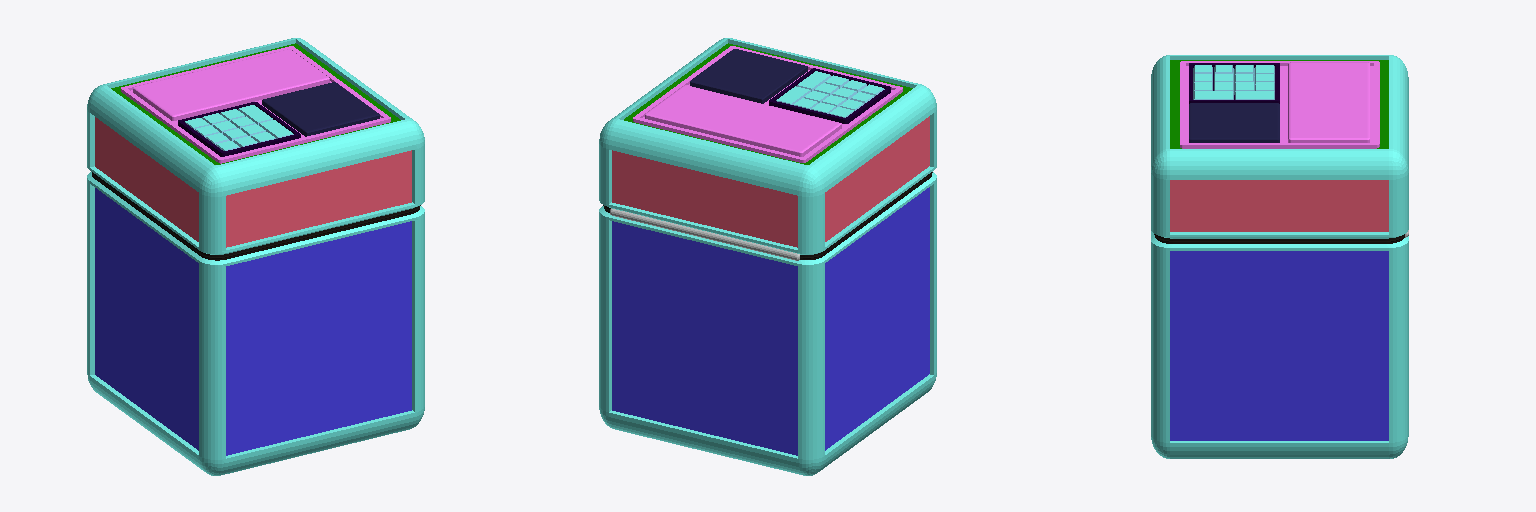
File: crate2a.obj
3 views of the same model, side by side, from view 1: azimuth 30°, elevation 25°; view 2: azimuth 150°, elevation 25°; view 3: azimuth 270°, elevation 25° (orthographic).
Parts seen in each view (by area): view 1: crate; view 2: crate; view 3: crate.
Boxes of the visible parts, x1,y1,x2,y2 form: crate: [87, 38, 424, 475]; crate: [599, 38, 936, 475]; crate: [1151, 55, 1408, 458].
Size of the model in its own units: 30 by 40 by 30.03.